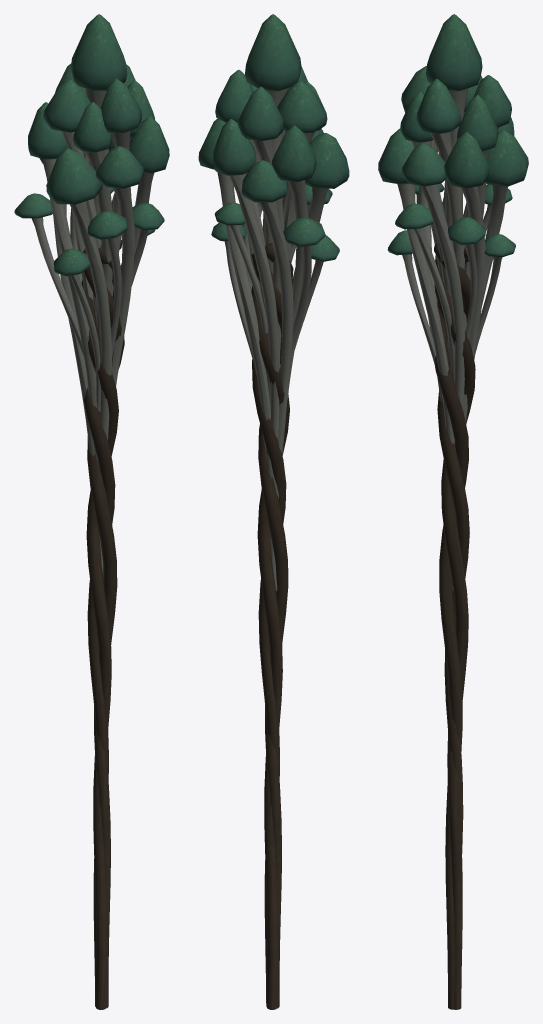
File: Mushroom_Weapon.fbx
3 renders of one model, left to right at view 1: azimuth 30°, elevation 25°; view 2: azimuth 150°, elevation 25°; view 3: azimuth 330°, elevation 25°, orthographic.
Visible parts, largest first — view 1: Mushroom_Weapon_40; view 2: Mushroom_Weapon_40; view 3: Mushroom_Weapon_40.
Boxes of the visible parts, bbox=[...] form: Mushroom_Weapon_40: bbox=[14, 14, 169, 1009]; Mushroom_Weapon_40: bbox=[198, 14, 349, 1009]; Mushroom_Weapon_40: bbox=[378, 14, 528, 1009].
Size of the model in its own units: 25.62 by 187 by 24.25.
